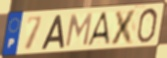7: (24, 14, 43, 52)
A: (86, 11, 112, 48), (40, 14, 65, 51)
M: (64, 12, 94, 48)
O: (135, 6, 159, 45)
X: (109, 8, 139, 46)
